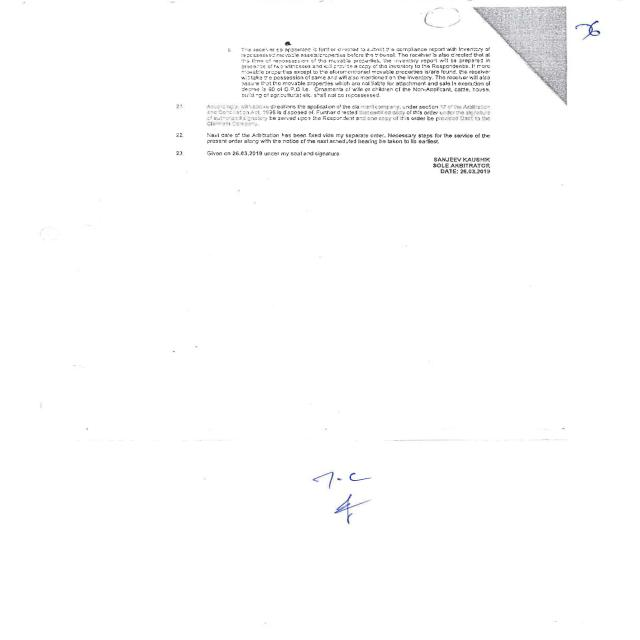page-number: (570, 0, 640, 66)
